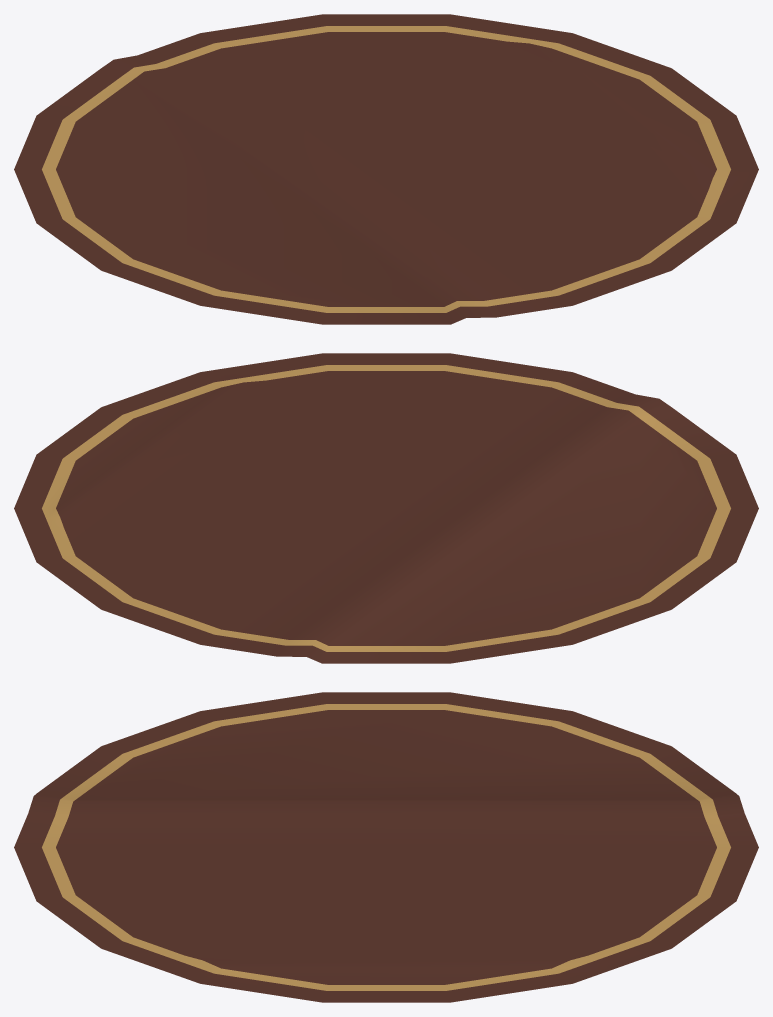
Rendered from Carpet_Round.glb.
3 views of the same model, one above another, from view 1: azimuth 30°, elevation 25°; view 2: azimuth 150°, elevation 25°; view 3: azimuth 270°, elevation 25° (orthographic).
Visible parts, largest first — view 1: Carpet_Round; view 2: Carpet_Round; view 3: Carpet_Round.
Boxes of the visible parts, bbox=[...] form: Carpet_Round: bbox=[14, 14, 758, 324]; Carpet_Round: bbox=[14, 353, 758, 663]; Carpet_Round: bbox=[14, 692, 758, 1002].
Bounding box in the file's own units: 2.49 × 0.0157 × 2.53.
